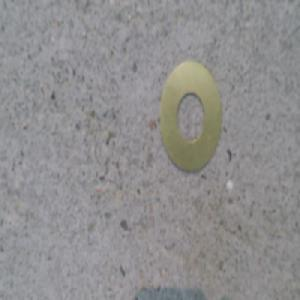Washer: (158, 58, 221, 174)
